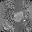people: (13, 11, 24, 23)
